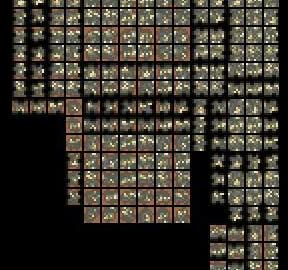tin: (10, 8, 28, 26), (10, 98, 28, 116), (10, 80, 28, 98), (10, 62, 28, 80), (28, 98, 46, 116), (28, 80, 46, 98), (28, 8, 46, 26), (28, 62, 46, 80), (46, 98, 64, 116), (46, 80, 64, 98), (46, 62, 64, 80), (46, 8, 64, 26), (64, 26, 82, 44), (64, 62, 82, 80), (64, 80, 82, 98), (64, 116, 82, 134), (64, 134, 82, 152), (64, 170, 82, 188), (64, 188, 82, 206), (82, 8, 100, 26), (100, 8, 118, 26), (118, 8, 136, 26), (118, 26, 136, 44), (100, 62, 118, 80), (118, 62, 136, 80), (82, 62, 100, 80), (82, 80, 100, 98), (100, 80, 118, 98), (118, 80, 136, 98), (82, 98, 100, 116), (100, 98, 118, 116), (118, 98, 136, 116), (118, 116, 136, 134), (82, 116, 100, 134), (82, 134, 100, 152), (100, 134, 118, 152), (118, 134, 136, 152), (118, 170, 136, 188), (82, 170, 100, 188), (82, 188, 100, 206), (100, 170, 118, 188), (100, 188, 118, 206), (118, 188, 136, 206), (154, 116, 172, 134), (190, 134, 208, 152), (208, 80, 226, 98), (208, 170, 226, 188), (208, 188, 226, 206), (244, 188, 262, 206), (244, 170, 262, 188), (244, 134, 262, 152), (244, 116, 262, 134), (244, 98, 262, 116), (244, 80, 262, 98), (244, 8, 262, 26), (10, 27, 28, 44), (10, 45, 28, 62), (28, 26, 46, 43), (28, 45, 46, 62), (46, 45, 64, 62), (46, 26, 64, 43), (65, 8, 82, 26), (64, 45, 82, 62), (64, 99, 82, 116), (64, 153, 82, 170), (100, 26, 118, 43), (82, 26, 100, 43), (82, 45, 100, 62), (100, 45, 118, 62), (118, 45, 136, 62), (101, 116, 118, 134), (82, 153, 100, 170), (100, 153, 118, 170), (118, 153, 136, 170), (82, 206, 100, 223), (100, 206, 118, 223), (118, 206, 136, 223), (154, 188, 171, 206), (136, 188, 153, 206), (136, 170, 153, 188), (154, 170, 171, 188), (172, 134, 189, 152), (155, 134, 172, 152), (136, 134, 153, 152), (172, 116, 189, 134), (136, 116, 153, 134), (136, 98, 153, 116), (136, 80, 153, 98), (136, 62, 153, 80), (136, 8, 153, 26), (154, 8, 171, 26), (154, 26, 172, 43), (154, 45, 172, 62), (155, 62, 172, 80), (155, 80, 172, 98), (154, 98, 171, 116), (172, 98, 189, 116), (172, 80, 189, 98), (173, 62, 190, 80), (172, 8, 189, 26), (191, 8, 208, 26), (190, 62, 207, 80), (190, 80, 207, 98), (190, 98, 207, 116), (190, 116, 207, 134), (208, 8, 225, 26), (208, 62, 225, 80), (208, 98, 225, 116), (208, 116, 225, 134), (208, 134, 225, 152), (226, 8, 243, 26), (226, 26, 243, 44), (227, 62, 244, 80), (226, 134, 243, 152), (208, 224, 226, 241), (208, 242, 225, 260), (226, 242, 243, 260), (244, 224, 262, 241), (244, 207, 262, 224), (245, 152, 262, 170), (262, 242, 279, 260), (262, 116, 279, 134), (262, 98, 279, 116), (244, 44, 261, 62), (136, 206, 153, 223), (154, 206, 171, 223), (172, 206, 189, 223), (172, 188, 189, 205), (172, 153, 189, 170), (154, 153, 171, 170), (137, 152, 154, 169), (136, 45, 153, 62), (136, 26, 153, 43), (172, 45, 189, 62), (172, 26, 189, 43), (190, 27, 207, 44), (190, 45, 207, 62), (208, 45, 225, 62), (208, 153, 225, 170), (226, 45, 243, 62), (226, 81, 243, 98), (226, 117, 243, 134), (226, 153, 243, 170), (226, 171, 243, 188), (227, 189, 244, 206), (226, 225, 243, 242), (227, 206, 244, 223), (244, 243, 261, 260), (262, 224, 279, 241), (245, 62, 262, 79), (262, 45, 279, 62), (245, 26, 262, 43), (227, 98, 243, 116), (263, 134, 279, 152), (263, 62, 279, 80), (172, 171, 189, 187), (208, 27, 225, 43), (263, 206, 279, 223), (263, 189, 279, 206), (263, 170, 279, 187), (263, 153, 279, 170), (263, 26, 279, 43), (263, 9, 279, 26), (263, 81, 279, 97), (208, 260, 225, 270), (263, 260, 279, 270), (262, 0, 279, 9), (226, 261, 243, 270), (244, 261, 261, 270), (10, 0, 28, 8), (118, 0, 136, 8), (208, 0, 226, 8), (64, 0, 81, 8), (137, 0, 154, 8), (190, 0, 207, 8), (244, 0, 261, 8), (28, 0, 45, 7), (46, 0, 63, 7), (83, 0, 100, 7), (101, 0, 118, 7), (155, 0, 172, 7), (173, 0, 190, 7), (227, 0, 244, 7)
